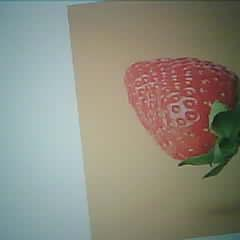straw-ripe: (124, 58, 240, 164)
